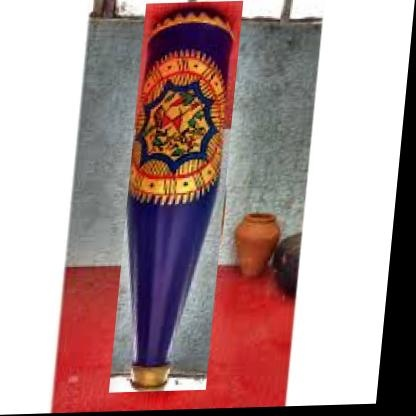trash: (128, 2, 241, 387)
